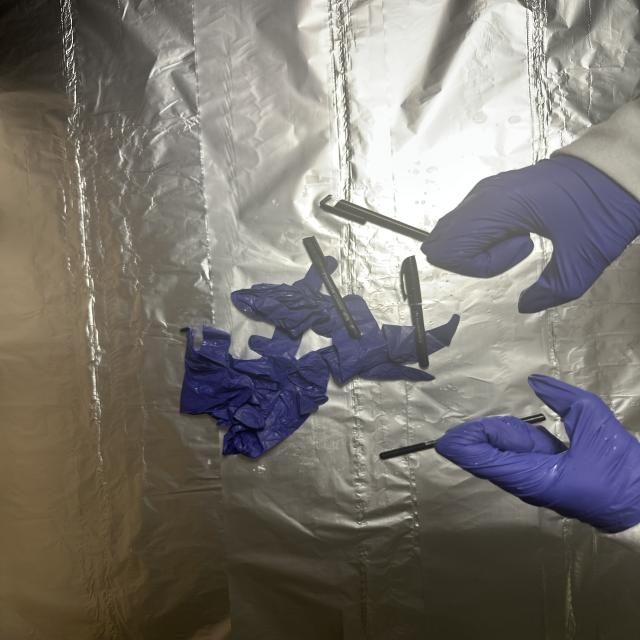gloves_contaminated: (423, 159, 640, 313), (436, 374, 640, 534)
